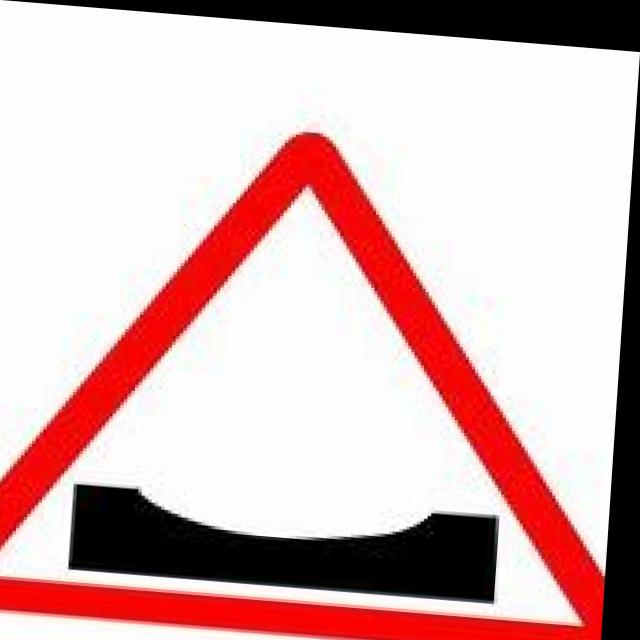DANGEROUS_DIP: (0, 95, 635, 640)
